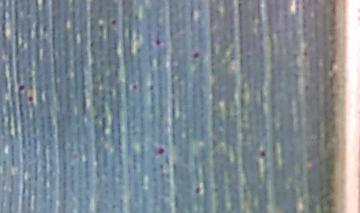tarspot: (155, 145, 168, 156), (24, 94, 35, 105), (259, 149, 268, 161), (192, 50, 201, 60), (17, 83, 26, 92), (154, 38, 163, 47), (194, 186, 203, 194), (131, 84, 139, 92), (303, 48, 310, 57), (110, 18, 119, 24), (148, 84, 157, 89)
